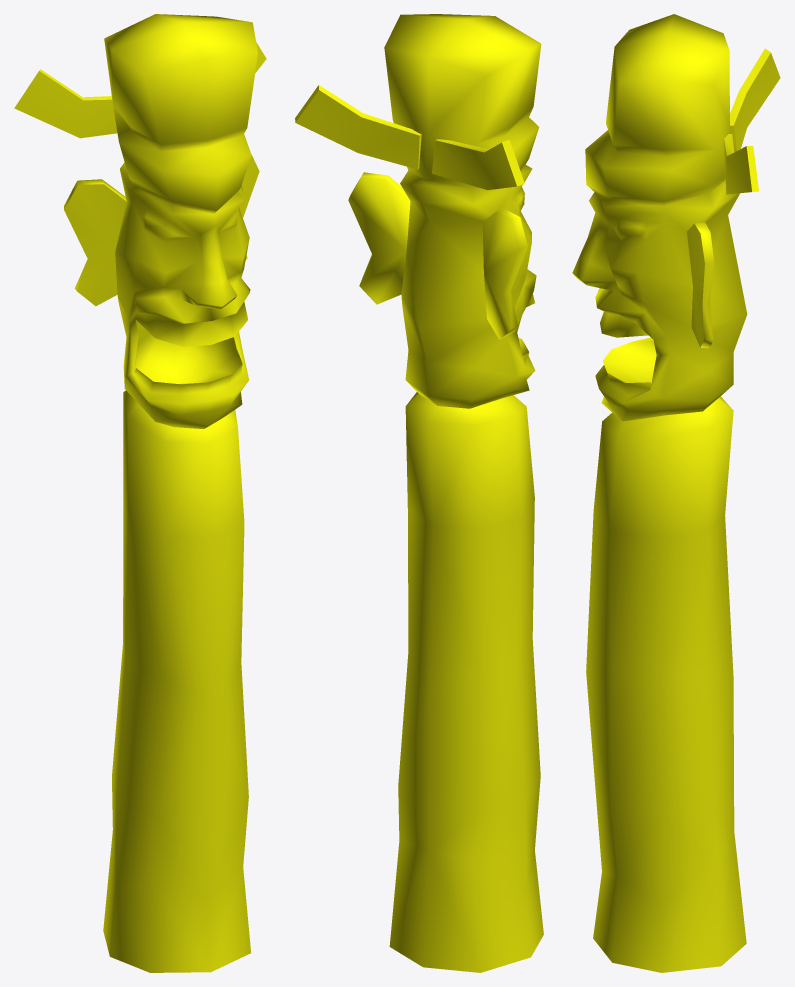
Rendered from treestatue_03.glb.
3 views of the same model, side by side, from view 1: azimuth 30°, elevation 25°; view 2: azimuth 150°, elevation 25°; view 3: azimuth 270°, elevation 25° (orthographic).
Visible parts, largest first — view 1: TreeStatue_03; view 2: TreeStatue_03; view 3: TreeStatue_03.
Part boxes in pixels (x1,y1,x2,y2): TreeStatue_03: [14, 14, 266, 972]; TreeStatue_03: [295, 14, 543, 972]; TreeStatue_03: [572, 14, 780, 972].
Size of the model in its own units: 3.02 by 11 by 2.28.
1 material, 1 textured.
